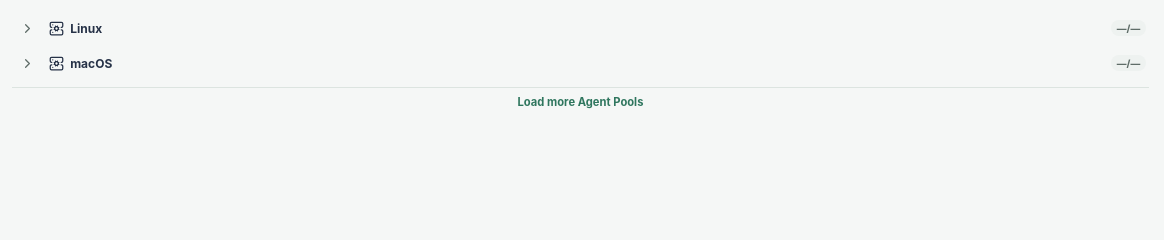
Test: Capacity explorer › paginates Pool and each expanded Agent branch independently
Click the button named "Expand Linux".
click(28, 28)  # box [15,15,41,41]
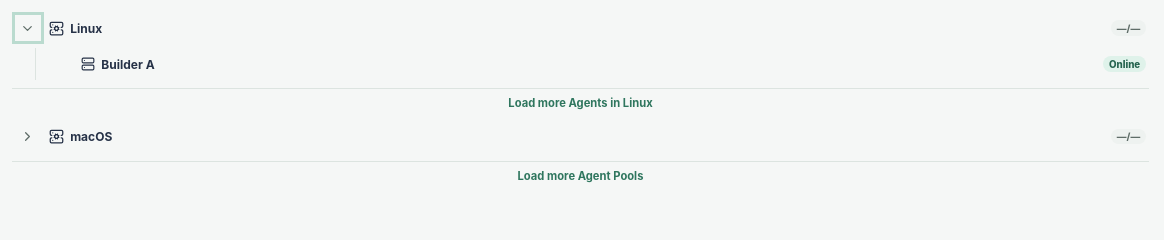
Result: the link "Builder A" is shown at [101,56,155,72]
Click the button named "Expand macOS".
click(28, 137)  # box [15,124,41,149]
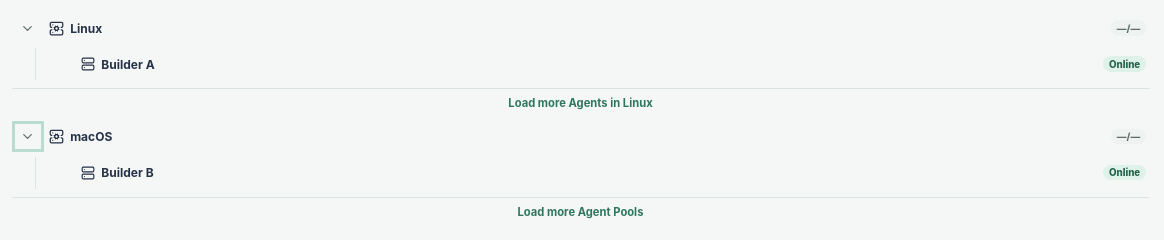
Result: the link "Builder B" is shown at [101,165,154,180]
Click the button "Load more Agents in Linux".
click(580, 103)  # box [12,88,1149,117]
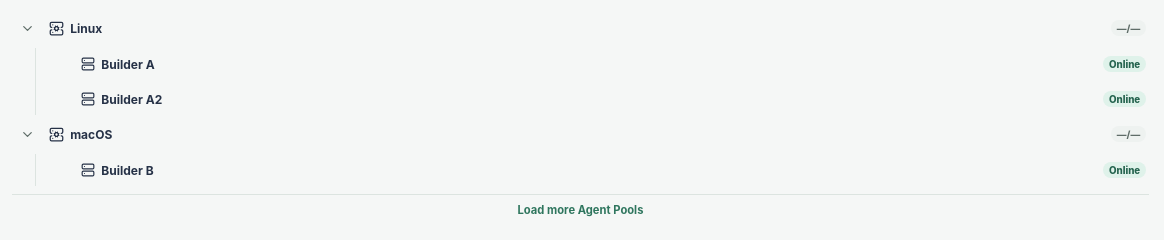
Result: the link "Builder A2" is shown at [101,92,162,107]
Click the button "Load more Agent Pools".
click(580, 209)  # box [12,194,1149,224]
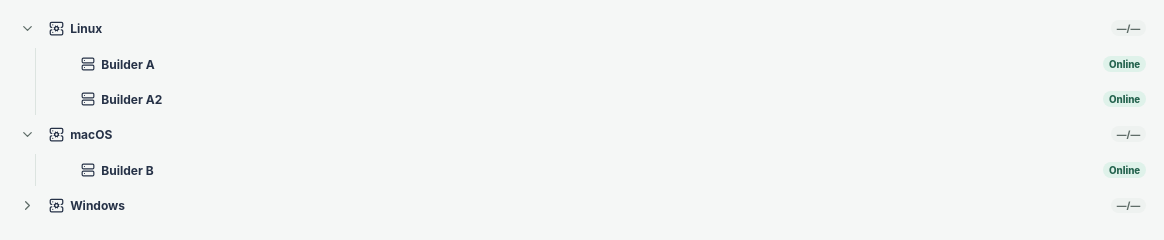
Result: the link "Windows" is shown at [70,198,125,213]
